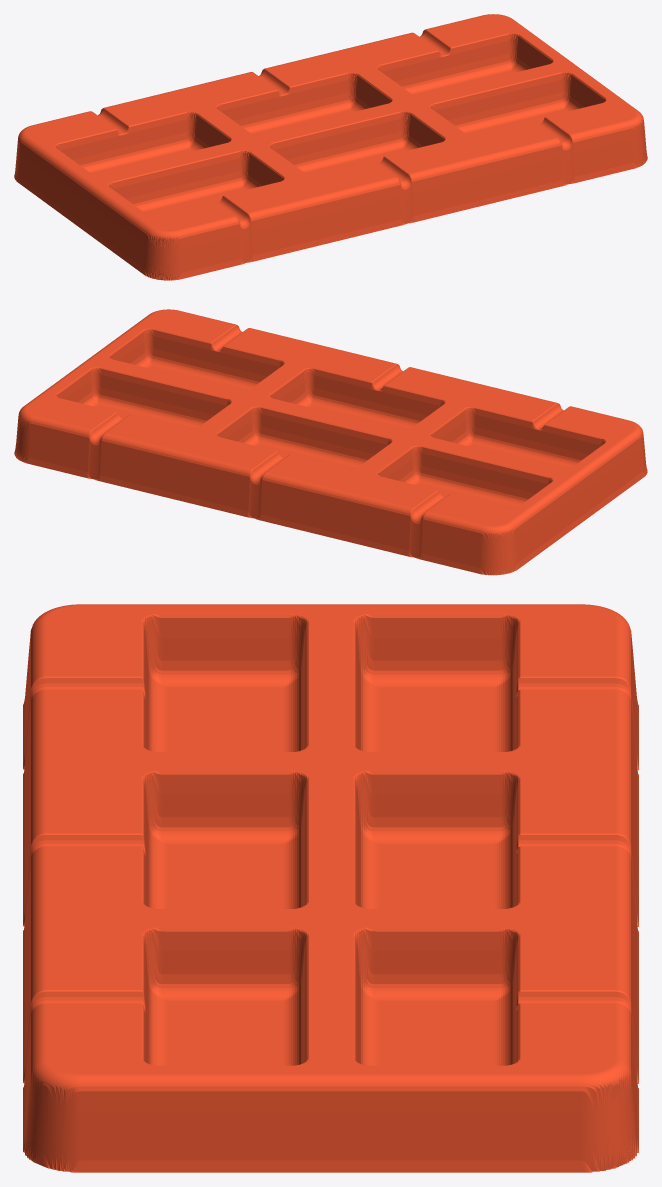
Rendered from mold.glb.
3 renders of one model, top to bottom at view 1: azimuth 30°, elevation 25°; view 2: azimuth 150°, elevation 25°; view 3: azimuth 270°, elevation 25°, orthographic. The views are drawn at different scales.
Parts seen in each view (by area): view 1: geometry_0; view 2: geometry_0; view 3: geometry_0.
Boxes of the visible parts, left/top/right/bottom form: geometry_0: left=14, top=14, right=647, bottom=280; geometry_0: left=14, top=309, right=647, bottom=575; geometry_0: left=23, top=604, right=638, bottom=1172.
Bounding box in the file's own units: 0.1824 × 0.0155 × 0.0973.
